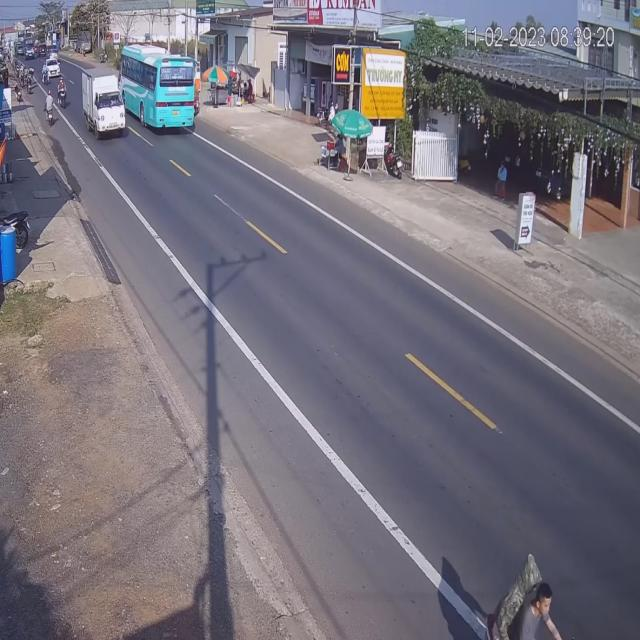bus: (120, 43, 197, 134)
motorbike: (480, 551, 573, 640), (44, 90, 55, 126), (56, 78, 68, 105)
truck: (82, 65, 124, 140)
